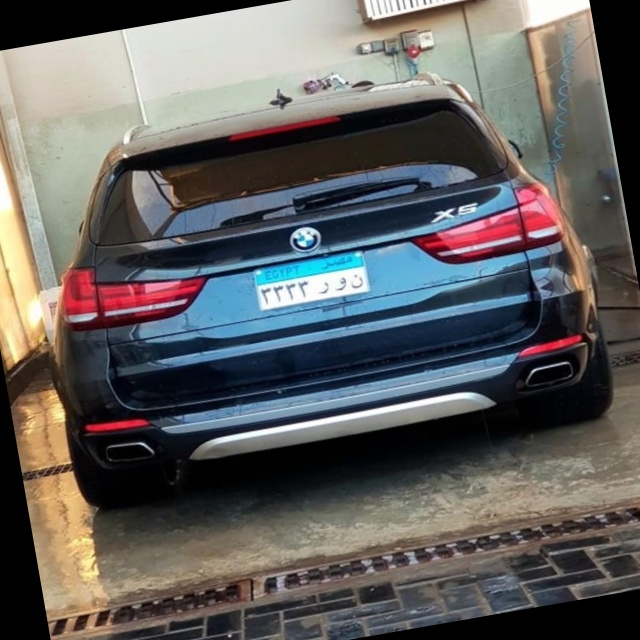License Plate: (251, 247, 372, 314)
